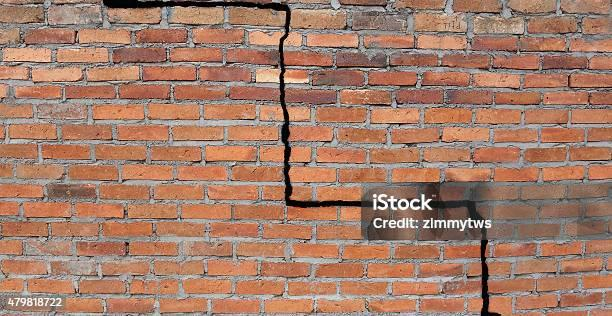Crack: (96, 0, 358, 240), (465, 240, 505, 316)
